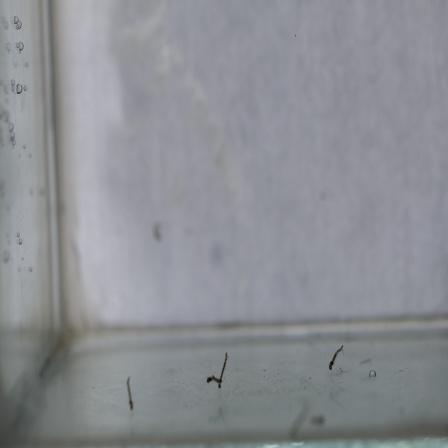Jentik-Nyamuk: (203, 348, 231, 394), (121, 372, 142, 415), (324, 342, 349, 372)
